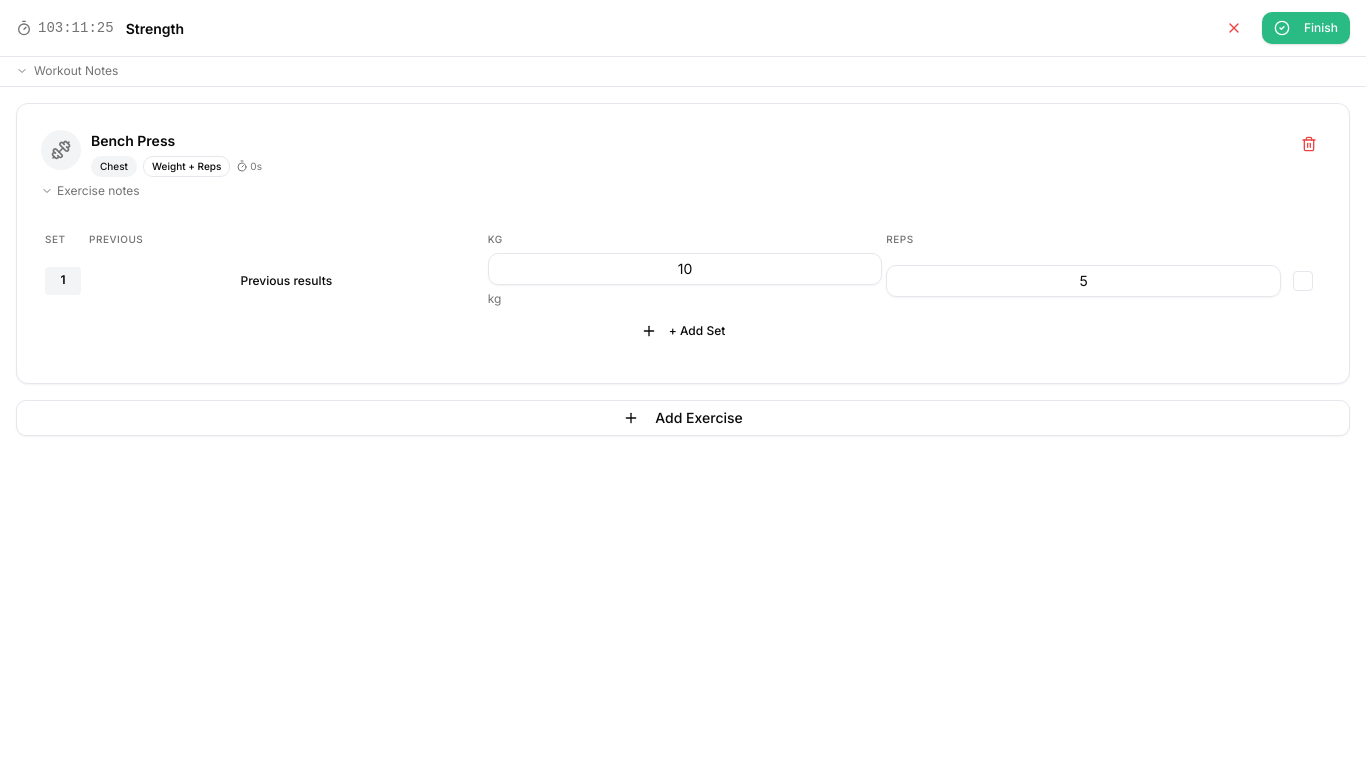
Test: WorkoutLogger measurement writes through the actual SWR hook › copies only selected prior measurements and preserves unfinished state through success
The width and height of the screenshot is (1366, 768).
Click the button "Previous results" at coordinates (286, 281), box [89,273,484,289]
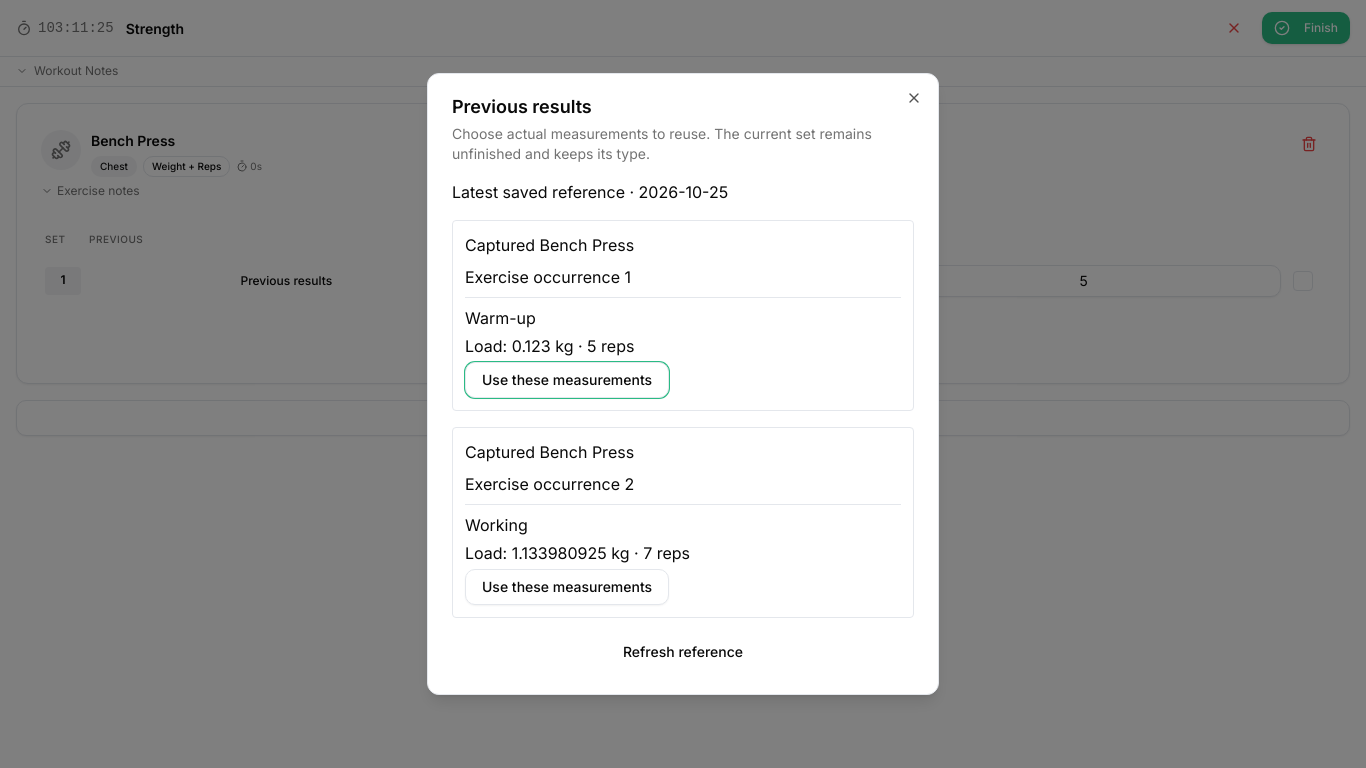
Expected: the number of headings "Captured Bench Press" is 2, [465,235,634,255]; [465,442,634,462]
Expected: the text "Warm-up" is shown, [465,308,536,328]
Click the button "Refresh reference" at coordinates (683, 652), box [452,634,914,670]
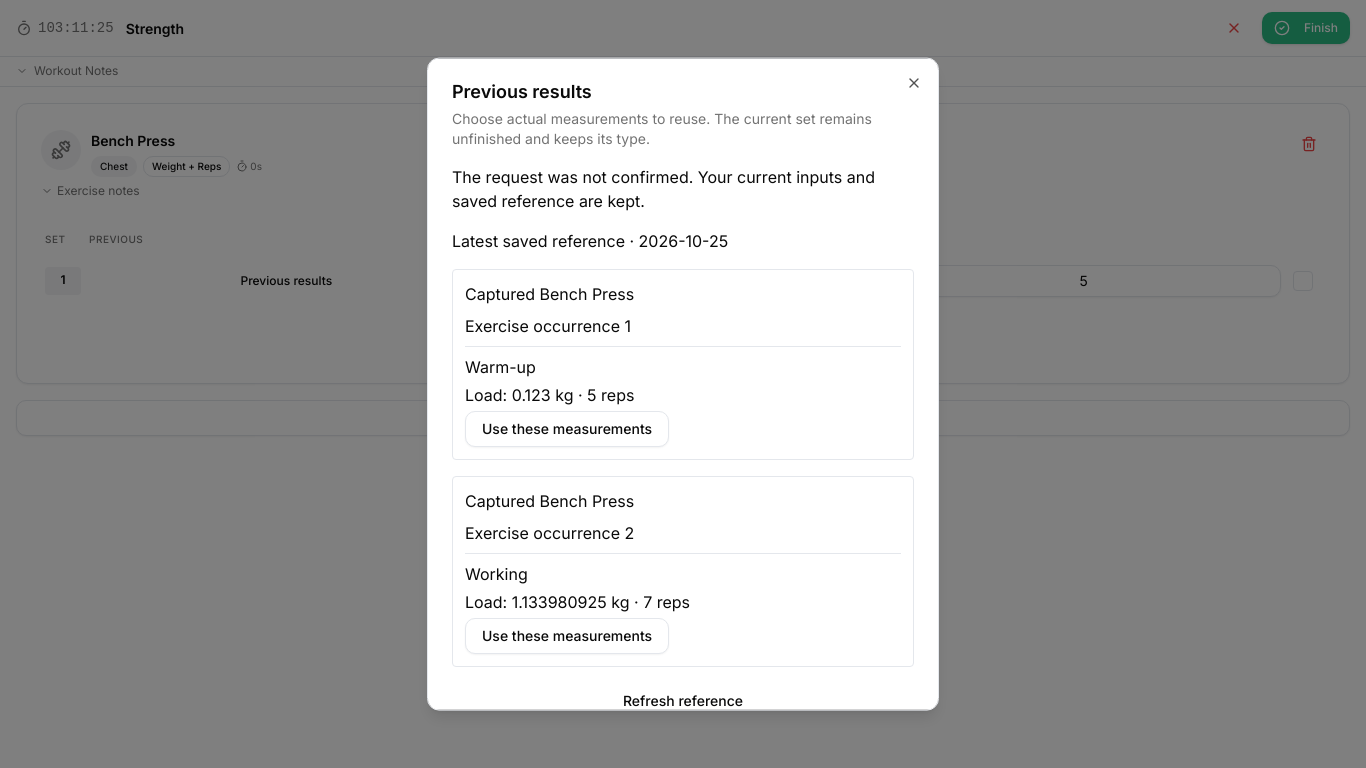
Expected: the number of headings "Captured Bench Press" is 2, [465,284,634,304]; [465,491,634,511]
Expected: the message is shown, [452,165,914,213]
Click the button "Use these measurements" below "Load: 0.123 kg · 5 reps" at coordinates (567, 429), box [465,411,669,447]
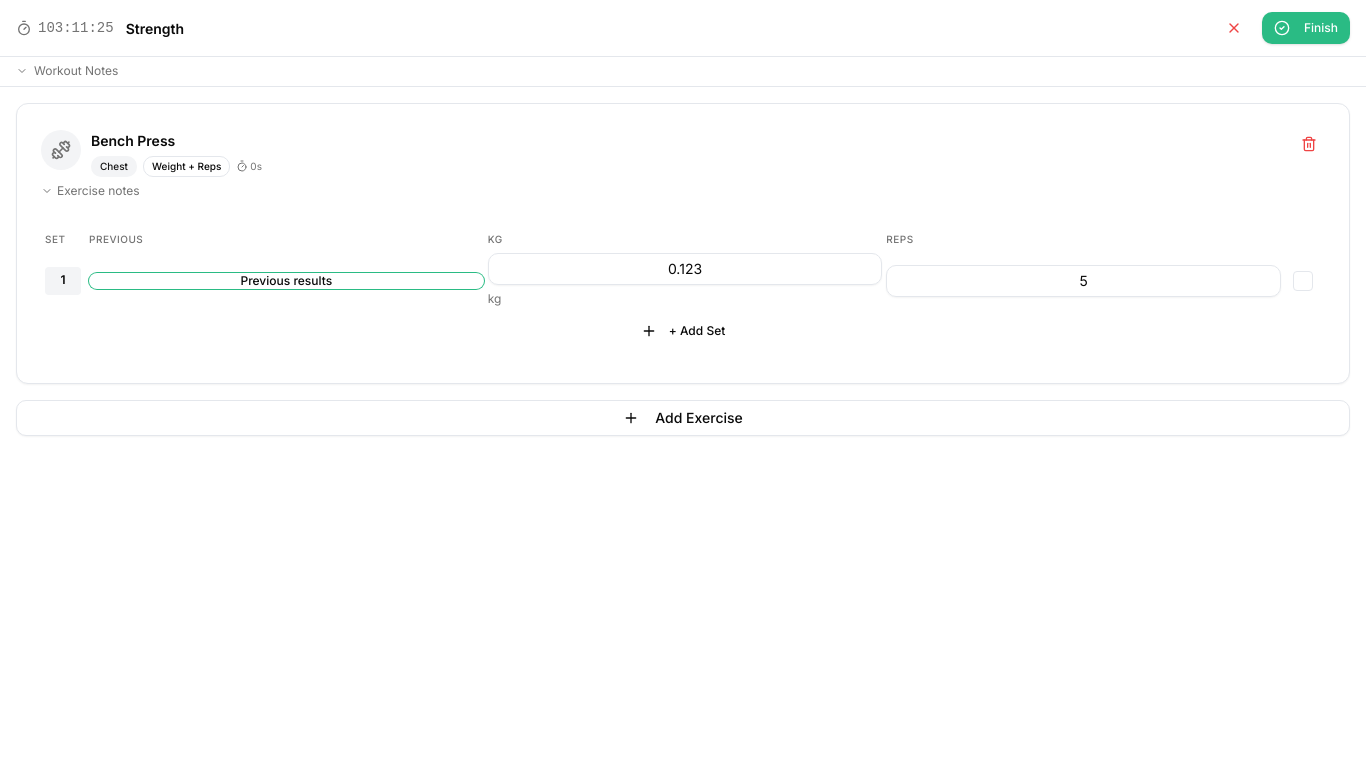
Expected: the checkbox named "Complete" is not checked, [1293,271,1313,291]
Expected: the dialog is gone
Expected: the field named "Weight (kg)" holds "0.123", [488,253,882,285]
